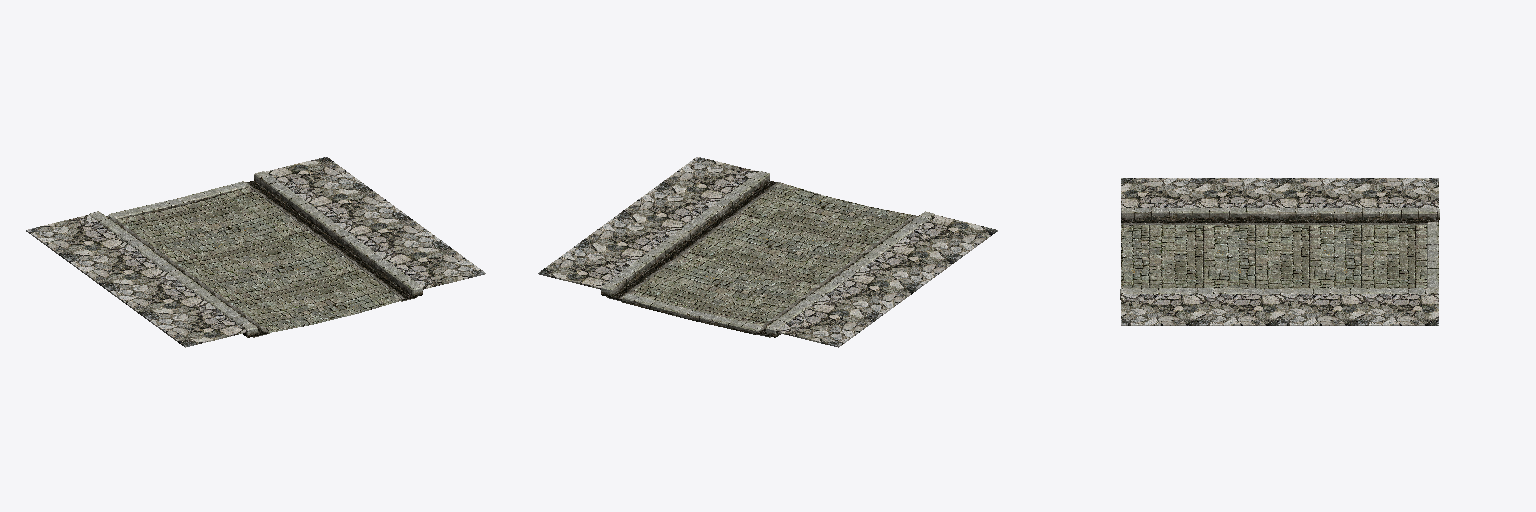
3 views of the same model, side by side, from view 1: azimuth 30°, elevation 25°; view 2: azimuth 150°, elevation 25°; view 3: azimuth 270°, elevation 25° (orthographic).
Parts seen in each view (by area): view 1: Plane01, Plane02, Plane03, Line02, ChamferBox02, ChamferBox07, ChamferBox06, ChamferBox05, Line01, ChamferBox04, ChamferBox01, ChamferBox03; view 2: Plane01, Plane02, Plane03, Line02, ChamferBox02, ChamferBox06, ChamferBox07, ChamferBox05, Line01, ChamferBox01, ChamferBox04, ChamferBox03; view 3: Plane01, Plane03, Plane02, Line01, ChamferBox04, ChamferBox01, ChamferBox03, ChamferBox02, ChamferBox06, ChamferBox07, ChamferBox05.
Part boxes in pixels (x1,y1,x2,y2): Plane01: (118, 187, 401, 332); Plane02: (26, 215, 247, 347); Plane03: (266, 157, 485, 289); Line02: (245, 181, 416, 301); ChamferBox02: (108, 181, 248, 219); ChamferBox07: (360, 249, 422, 296); ChamferBox06: (254, 171, 319, 219); ChamferBox05: (308, 211, 369, 257); Line01: (106, 216, 269, 337); ChamferBox04: (193, 287, 257, 337); ChamferBox01: (89, 211, 150, 252); ChamferBox03: (141, 250, 201, 290); Plane01: (630, 183, 912, 325); Plane02: (776, 215, 997, 347); Plane03: (538, 157, 758, 289); Line02: (607, 181, 780, 301); ChamferBox02: (622, 293, 762, 334); ChamferBox06: (601, 247, 665, 296); ChamferBox07: (708, 171, 769, 218); ChamferBox05: (657, 209, 717, 256); Line01: (756, 215, 917, 337); ChamferBox01: (766, 289, 828, 337); ChamferBox04: (870, 211, 934, 253); ChamferBox03: (820, 252, 880, 292); Plane01: (1121, 225, 1426, 287); Plane03: (1121, 294, 1438, 325); Plane02: (1121, 178, 1438, 207); Line01: (1121, 220, 1438, 224); ChamferBox04: (1121, 208, 1230, 219); ChamferBox01: (1334, 208, 1439, 219); ChamferBox03: (1230, 208, 1333, 219); ChamferBox02: (1427, 222, 1438, 288); ChamferBox06: (1329, 288, 1438, 293); ChamferBox07: (1120, 288, 1225, 299); ChamferBox05: (1225, 288, 1328, 293).
Size of the model in its own units: 6.54 by 0.2444 by 6.02.
4 materials, 4 textured.